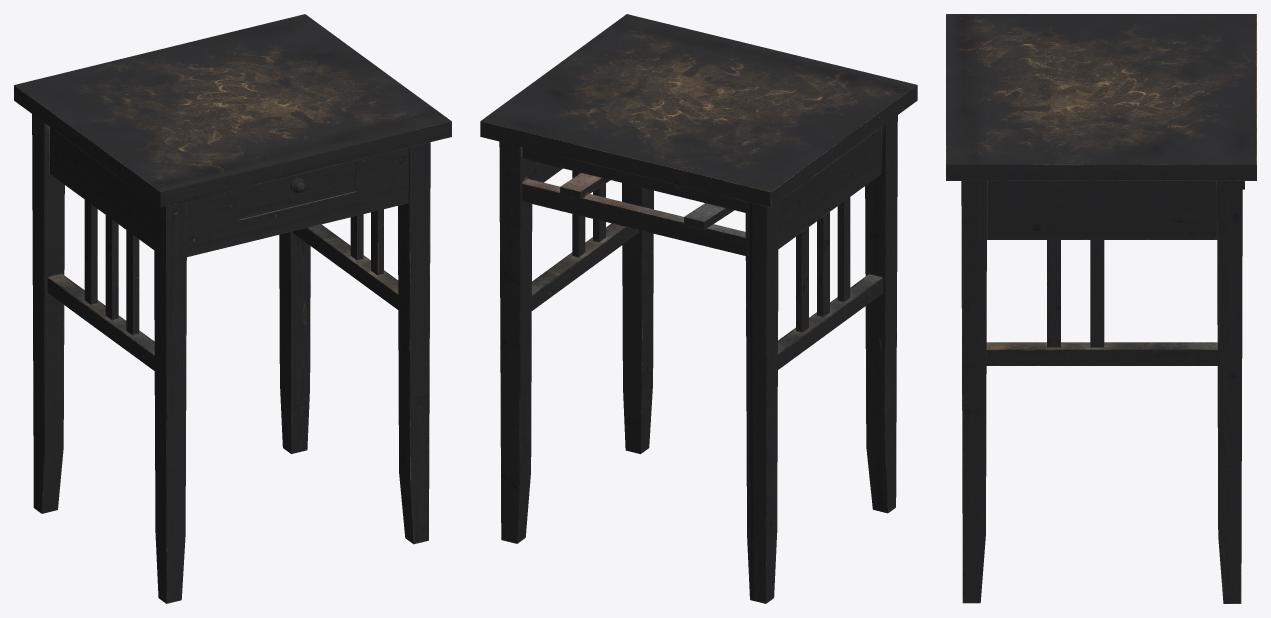
The model's file is wooden_table.glb.
3 views of the same model, side by side, from view 1: azimuth 30°, elevation 25°; view 2: azimuth 150°, elevation 25°; view 3: azimuth 270°, elevation 25° (orthographic). The views are drawn at different scales.
Parts seen in each view (by area): view 1: Table_LP; view 2: Table_LP; view 3: Table_LP.
Part boxes in pixels (x1=…): Table_LP: x1=14, y1=14, x2=451, y2=603; Table_LP: x1=480, y1=14, x2=917, y2=603; Table_LP: x1=946, y1=14, x2=1256, y2=603.
Size of the model in its own units: 1.76 by 2.44 by 1.54.
Materials: 1 (1 with a texture image).
